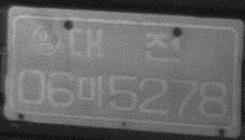0: (17, 68, 46, 106)
2: (139, 75, 169, 117)
5: (108, 74, 138, 112)
6: (45, 69, 75, 109)
7: (168, 77, 198, 117)
8: (198, 79, 227, 119)
대전_D: (68, 26, 181, 65)
마: (76, 73, 105, 109)
영: (31, 25, 62, 56)
